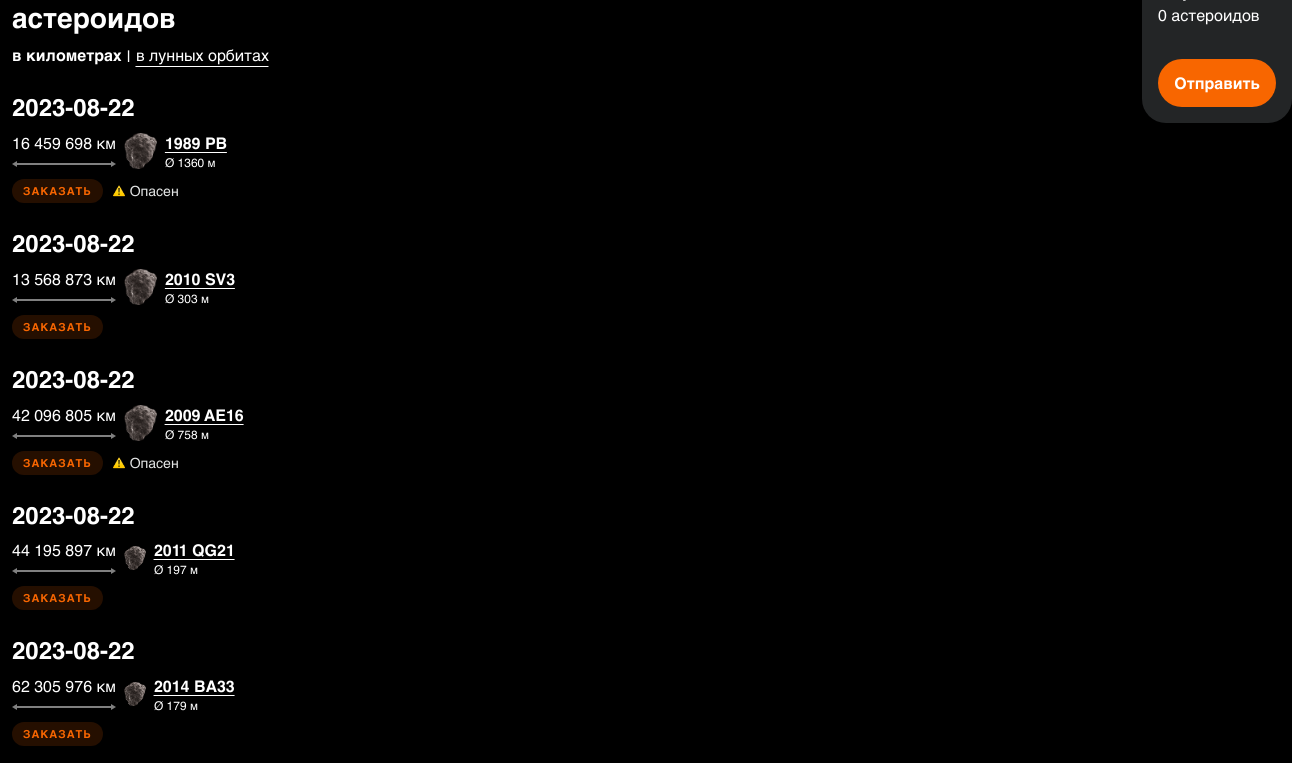
Home render › add to cart
Expected: the text with test id "cart-value" shows "0", [1158, 5, 1260, 24]
Click the button "ЗАКАЗАТЬ" below "303" at (57, 327), box [12, 315, 103, 339]
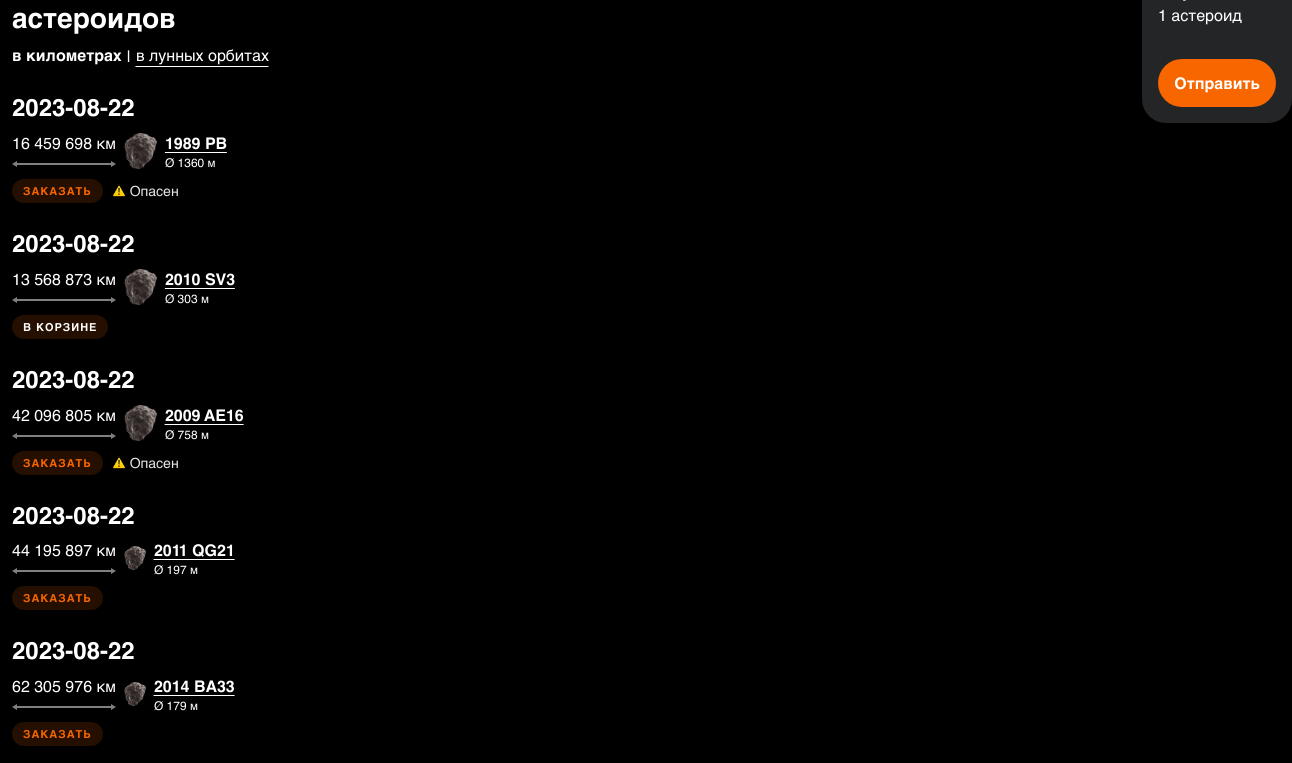
Click the button "ЗАКАЗАТЬ" below "197" at (57, 598), box [12, 586, 103, 610]
(page scrolled)
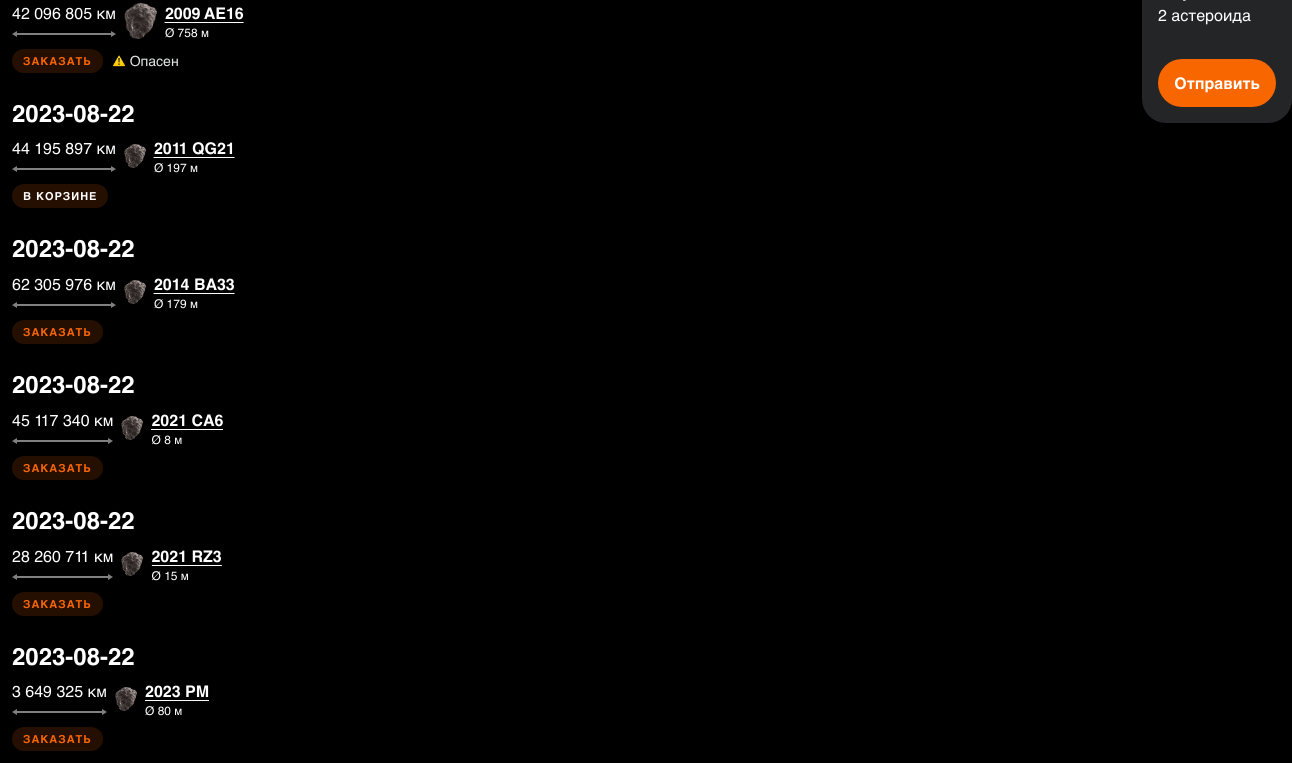
Click the button "ЗАКАЗАТЬ" below "45 117 340 км" at (57, 468), box [12, 456, 103, 480]
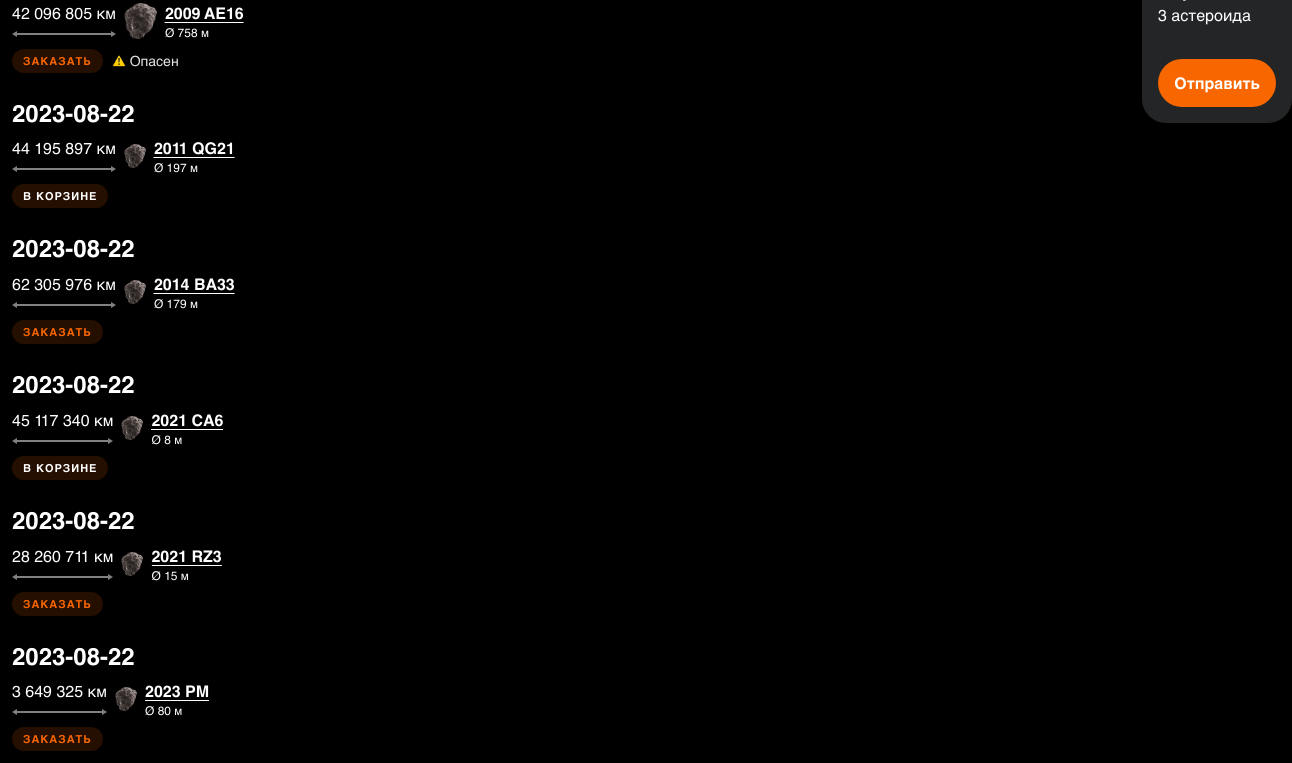
Click the button "ЗАКАЗАТЬ" below "3 649 325 км" at (57, 739), box [12, 727, 103, 751]
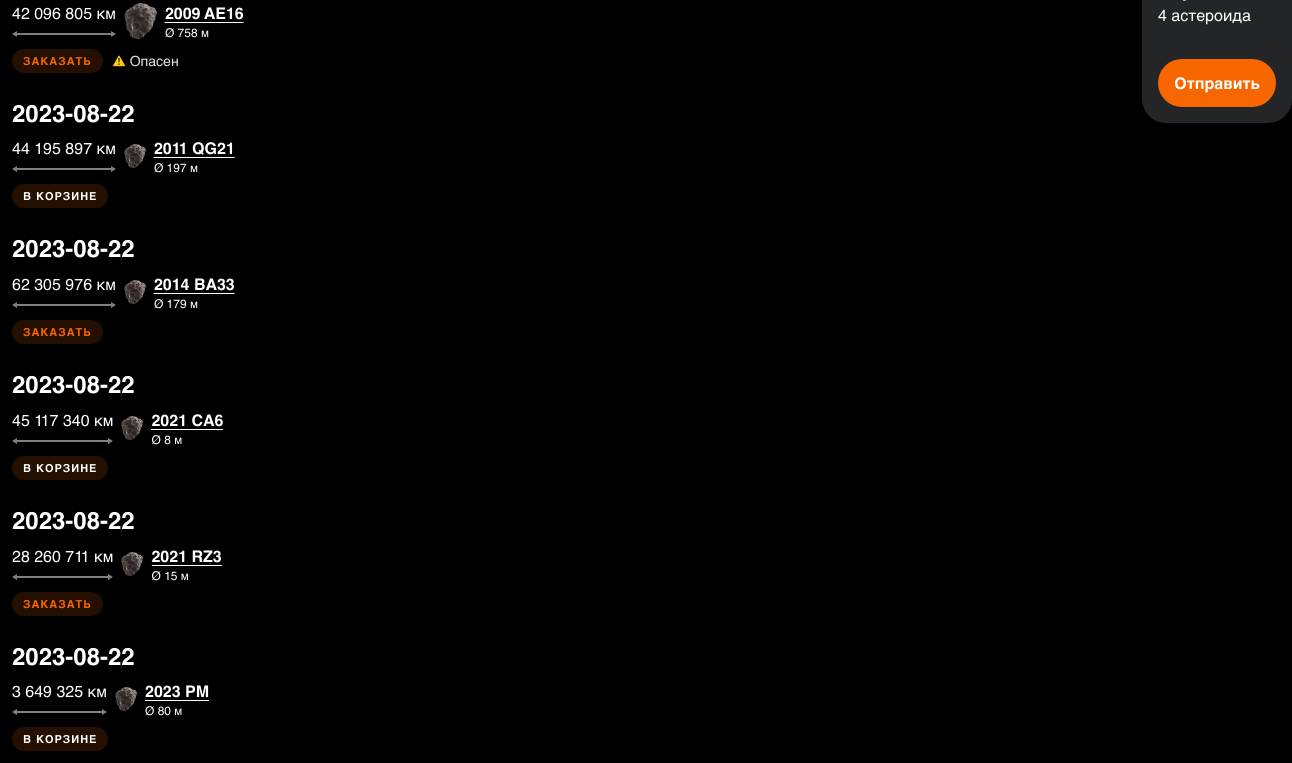
Expected: the text with test id "cart-value" shows "4", [1158, 5, 1251, 24]
